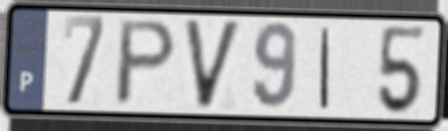5: (375, 22, 427, 117)
7: (61, 12, 106, 112)
9: (251, 18, 299, 115)
I: (317, 25, 334, 112)
P: (111, 17, 181, 109)
V: (180, 16, 246, 114)
